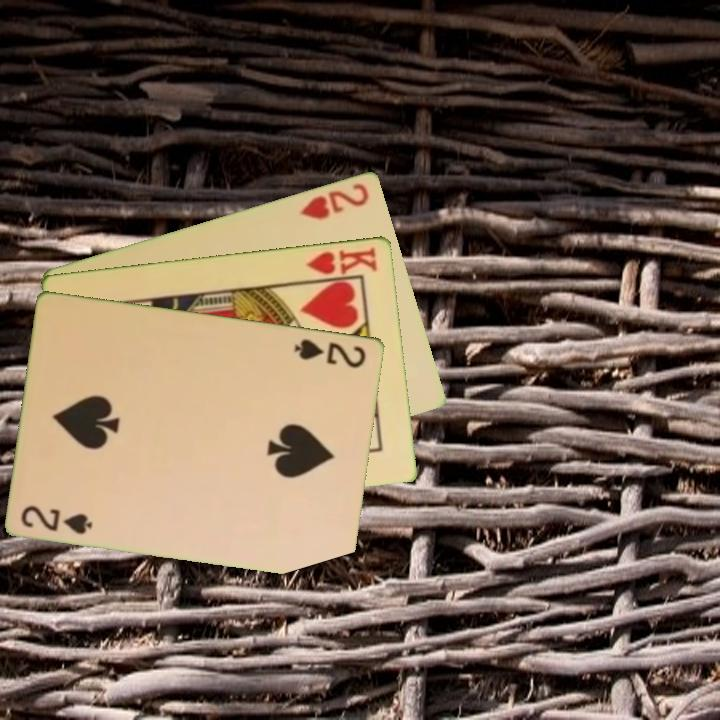2h: (297, 179, 372, 222)
2s: (291, 335, 369, 371), (18, 501, 96, 537)
Kh: (300, 243, 381, 283)
